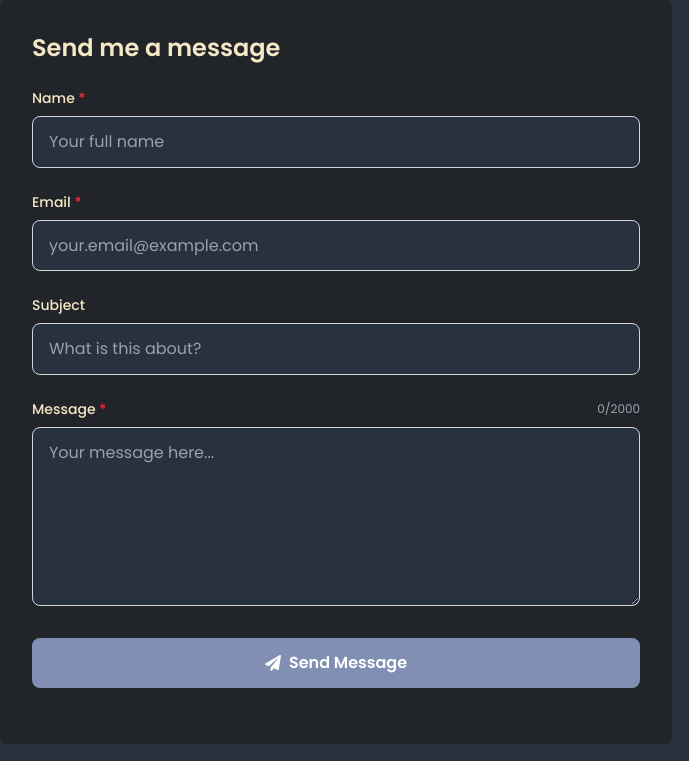
Test case: ContactForm — unit tests › character counter › updates counter incrementally
In the text box labelled "Message *": (336, 517) top-left (32, 427), bottom-right (640, 606), type "Hello"
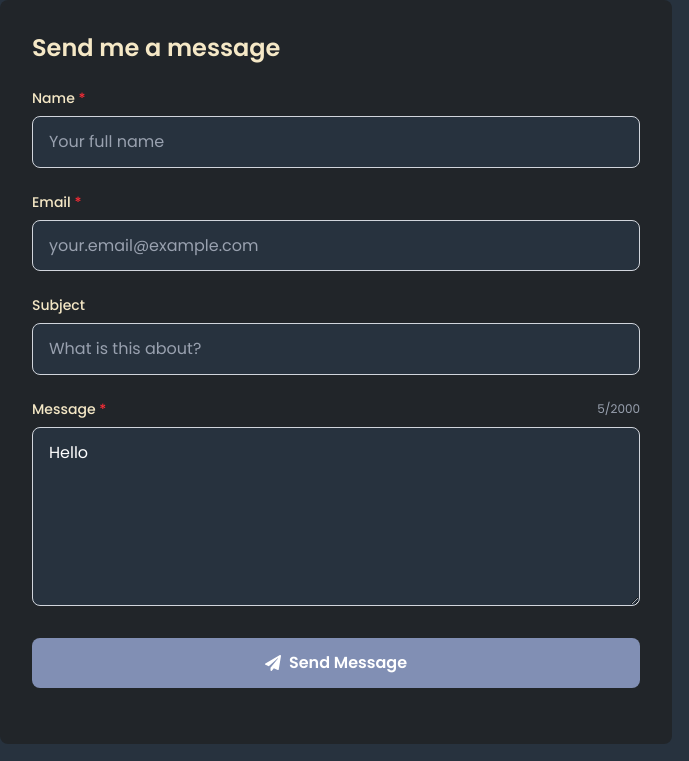
Check: the text "5/2000" is shown, box top-left (597, 401), bottom-right (640, 417)
Replace the text in the text box labelled "Message *" with "Hello World": (336, 517) top-left (32, 427), bottom-right (640, 606)
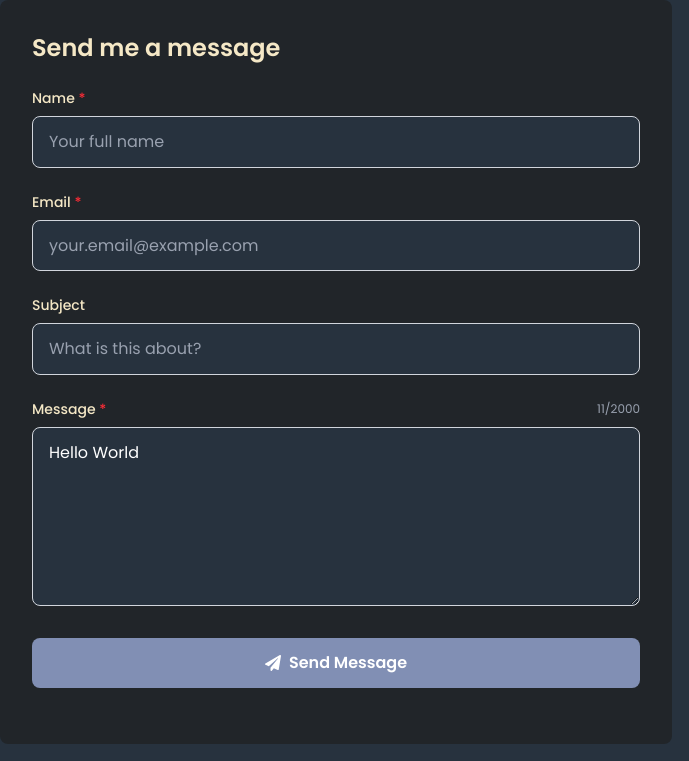
Check: the text "11/2000" is shown, box top-left (597, 401), bottom-right (640, 417)
Clear the text box labelled "Message *": (336, 517) top-left (32, 427), bottom-right (640, 606)
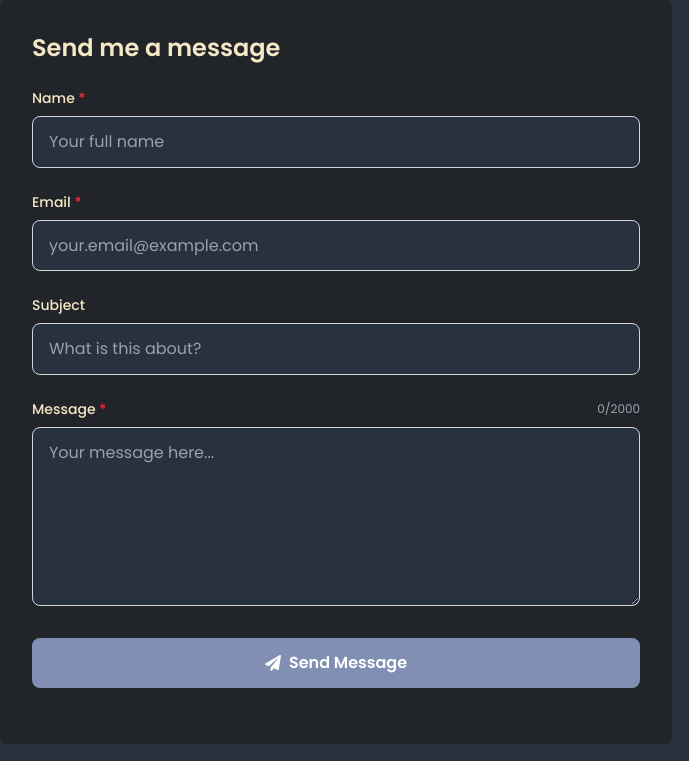
Check: the text "0/2000" is shown, box top-left (597, 401), bottom-right (640, 417)
